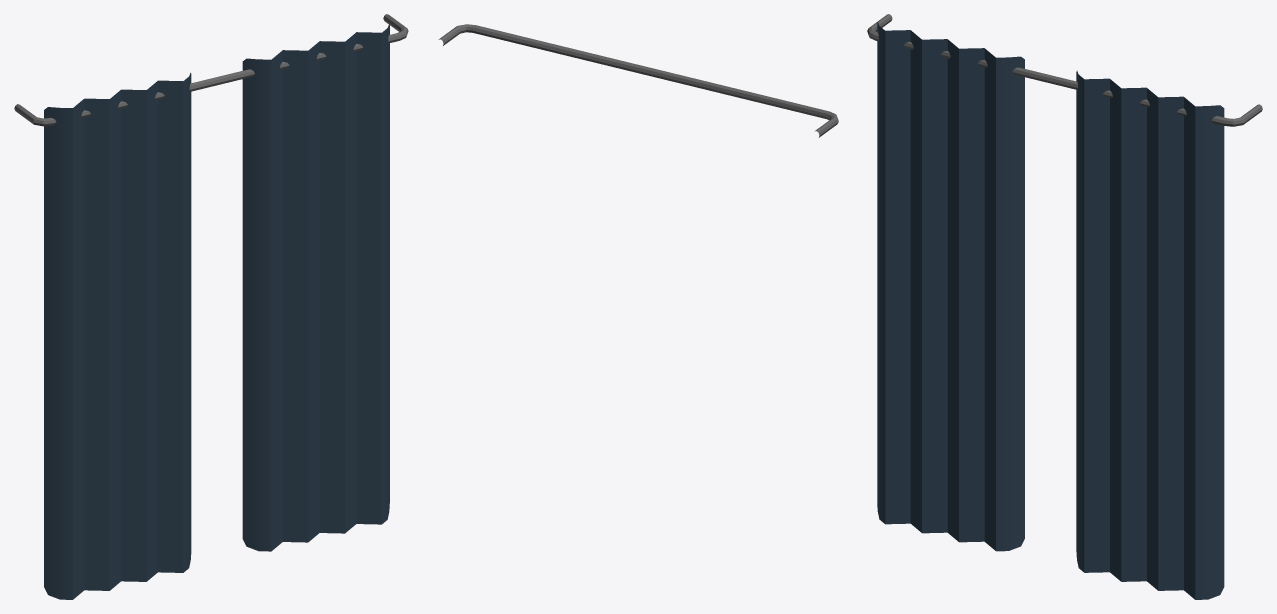
The model's file is Curtains_Double.gltf.
3 renders of one model, left to right at view 1: azimuth 30°, elevation 25°; view 2: azimuth 150°, elevation 25°; view 3: azimuth 330°, elevation 25°, orthographic.
Parts seen in each view (by area): view 1: Curtains_Double; view 2: Curtains_Double; view 3: Curtains_Double.
Boxes of the visible parts, x1,y1,x2,y2 form: Curtains_Double: (14,14,408,599); Curtains_Double: (438,24,838,137); Curtains_Double: (867,14,1262,599).
Size of the model in its own units: 3.47 by 4.34 by 0.4765.
